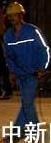boots: (0, 112, 7, 128)
hard-hat: (0, 0, 26, 31)
ppe-suit: (0, 0, 26, 93)
